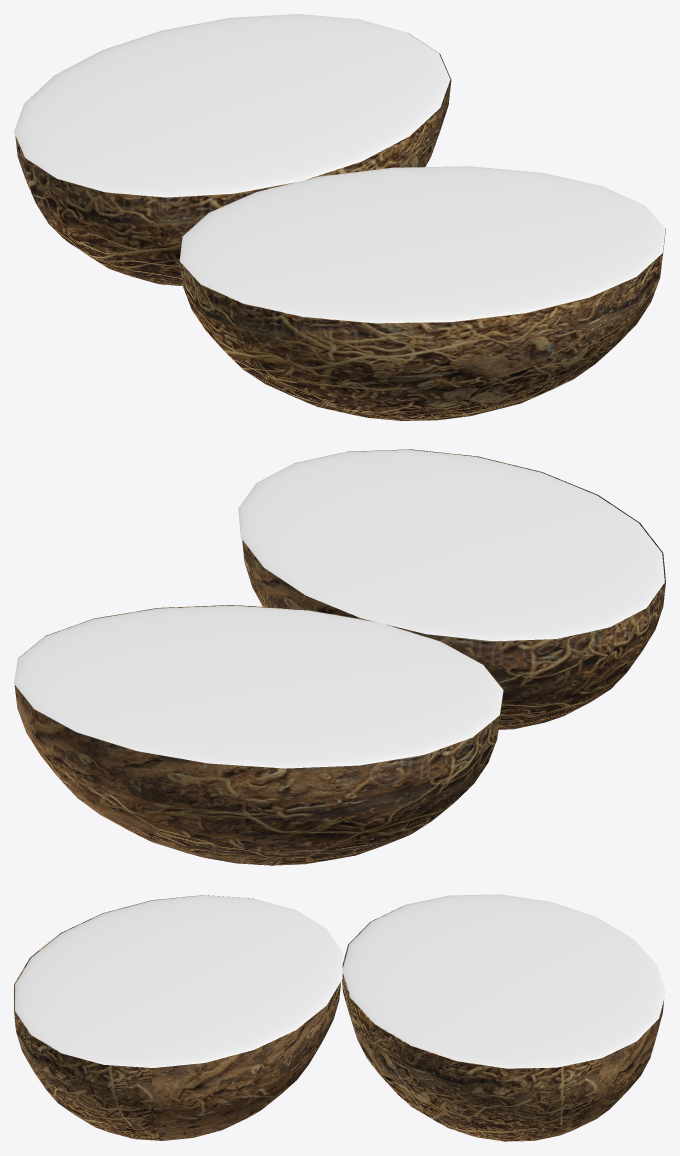
The model's file is Cracked_Coconut.fbx.
3 views of the same model, one above another, from view 1: azimuth 30°, elevation 25°; view 2: azimuth 150°, elevation 25°; view 3: azimuth 270°, elevation 25° (orthographic). The views are drawn at different scales.
Parts seen in each view (by area): view 1: pSphere4, pSphere3; view 2: pSphere3, pSphere4; view 3: pSphere4, pSphere3.
Part boxes in pixels (x1=…): pSphere4: x1=179, y1=166, x2=665, y2=420; pSphere3: x1=14, y1=14, x2=451, y2=285; pSphere3: x1=14, y1=605, x2=503, y2=865; pSphere4: x1=238, y1=449, x2=665, y2=729; pSphere4: x1=14, y1=895, x2=342, y2=1140; pSphere3: x1=342, y1=894, x2=665, y2=1141.
Bounding box in the file's own units: 2.37 × 0.8798 × 3.75.
2 materials, 2 textured.
